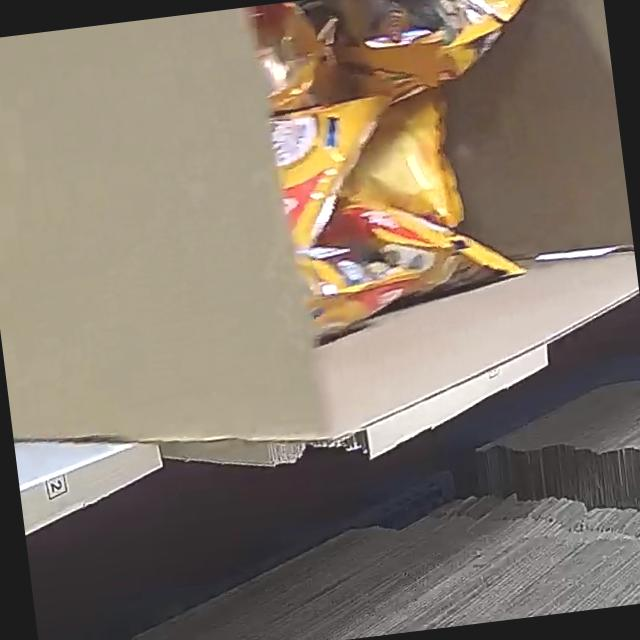cheese: (246, 0, 592, 339)
